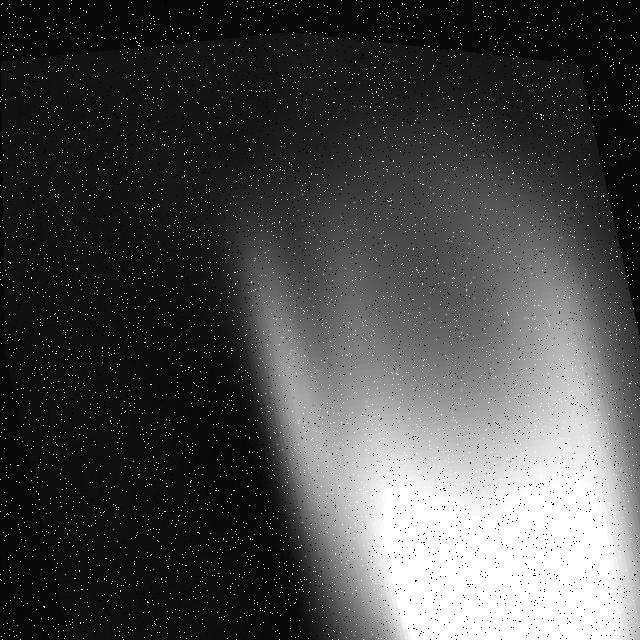person: (152, 51, 640, 640)
